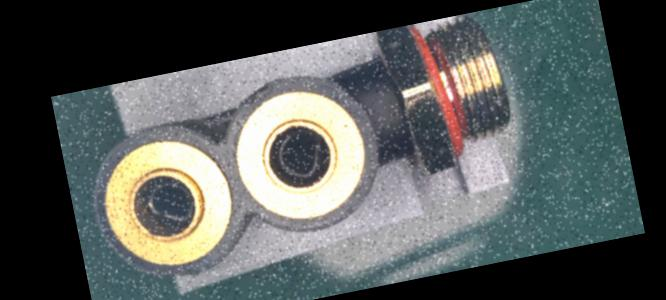bump: (157, 260, 206, 281), (238, 81, 276, 108)
off-centered: (262, 124, 334, 186), (136, 174, 201, 232)
white mark: (382, 112, 400, 130)
